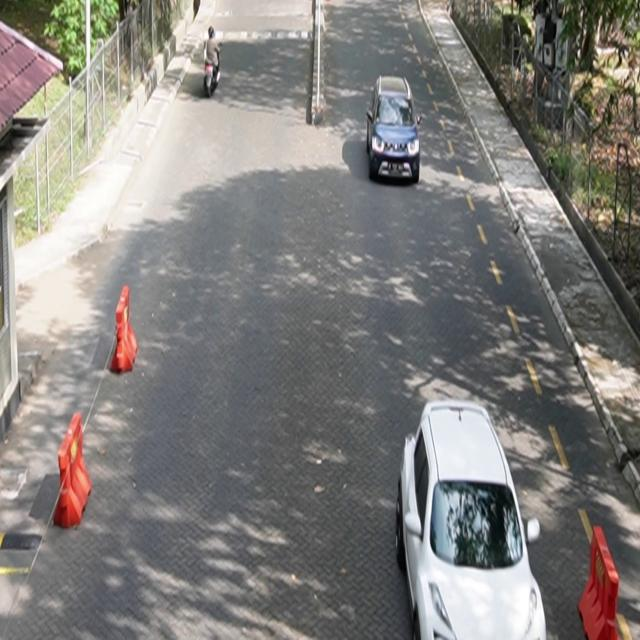car: (396, 400, 548, 640), (367, 75, 423, 184)
